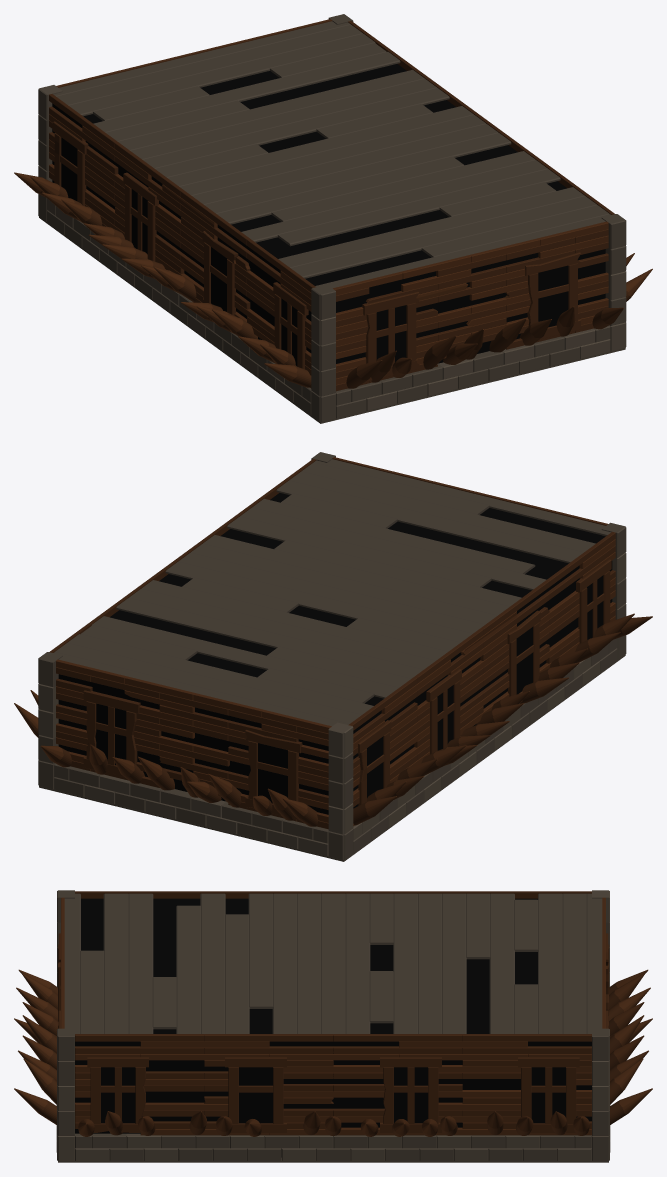
Rendered from ThiefLevel.fbx.
The picture shows the model from 3 angles, top to bottom: view 1: azimuth 30°, elevation 25°; view 2: azimuth 150°, elevation 25°; view 3: azimuth 270°, elevation 25°; orthographic projection. The views are drawn at different scales.
Visible parts, largest first — view 1: Cube.426, Cube.511, Cube.495, Cube.507, Cube.513, Cube.502, Cube.433, Cube.499, Cube.496, Cube.503, Cube.504, Cube.509 (+40 smaller); view 2: Cube.426, Cube.496, Cube.509, Cube.505, Cube.511, Cube.499, Cube.503, Cube.504, Cube.507, Cube.508, Cube.513, Cube.514 (+39 smaller); view 3: Cube.426, Cube.496, Cube.511, Cube.495, Cube.505, Cube.502, Cube.503, Cube.507, Cube.514, Cube.504, Cube.513, Cube.509 (+128 smaller).
Part boxes in pixels (x1=…): Cube.426: x1=52, y1=64, x2=605, y2=363; Cube.511: x1=93, y1=52, x2=400, y2=132; Cube.495: x1=291, y1=196, x2=596, y2=278; Cube.507: x1=143, y1=88, x2=449, y2=168; Cube.513: x1=69, y1=33, x2=375, y2=116; Cube.502: x1=204, y1=133, x2=511, y2=213; Cube.433: x1=277, y1=169, x2=560, y2=246; Cube.499: x1=241, y1=160, x2=547, y2=242; Cube.496: x1=278, y1=187, x2=584, y2=267; Cube.503: x1=192, y1=124, x2=498, y2=204; Cube.504: x1=179, y1=115, x2=485, y2=195; Cube.509: x1=118, y1=69, x2=424, y2=150; Cube.426: x1=58, y1=493, x2=612, y2=814; Cube.496: x1=276, y1=480, x2=583, y2=563; Cube.509: x1=116, y1=598, x2=422, y2=678; Cube.505: x1=165, y1=562, x2=472, y2=642; Cube.511: x1=92, y1=616, x2=398, y2=698; Cube.499: x1=240, y1=508, x2=546, y2=590; Cube.503: x1=190, y1=544, x2=497, y2=624; Cube.504: x1=178, y1=553, x2=484, y2=633; Cube.507: x1=141, y1=580, x2=447, y2=660; Cube.508: x1=129, y1=589, x2=435, y2=669; Cube.513: x1=67, y1=634, x2=373, y2=714; Cube.514: x1=55, y1=643, x2=361, y2=723; Cube.426: x1=75, y1=898, x2=591, y2=1157; Cube.496: x1=128, y1=893, x2=153, y2=1033; Cube.511: x1=489, y1=893, x2=514, y2=1033; Cube.495: x1=103, y1=893, x2=128, y2=1033; Cube.505: x1=345, y1=893, x2=370, y2=1033; Cube.502: x1=272, y1=893, x2=297, y2=1033; Cube.503: x1=297, y1=893, x2=321, y2=1033; Cube.507: x1=393, y1=893, x2=417, y2=1033; Cube.514: x1=562, y1=893, x2=586, y2=1033; Cube.504: x1=321, y1=893, x2=345, y2=1033; Cube.513: x1=538, y1=893, x2=562, y2=1033; Cube.509: x1=442, y1=893, x2=466, y2=1033.
Size of the model in its own units: 1274 by 405 by 1855.
